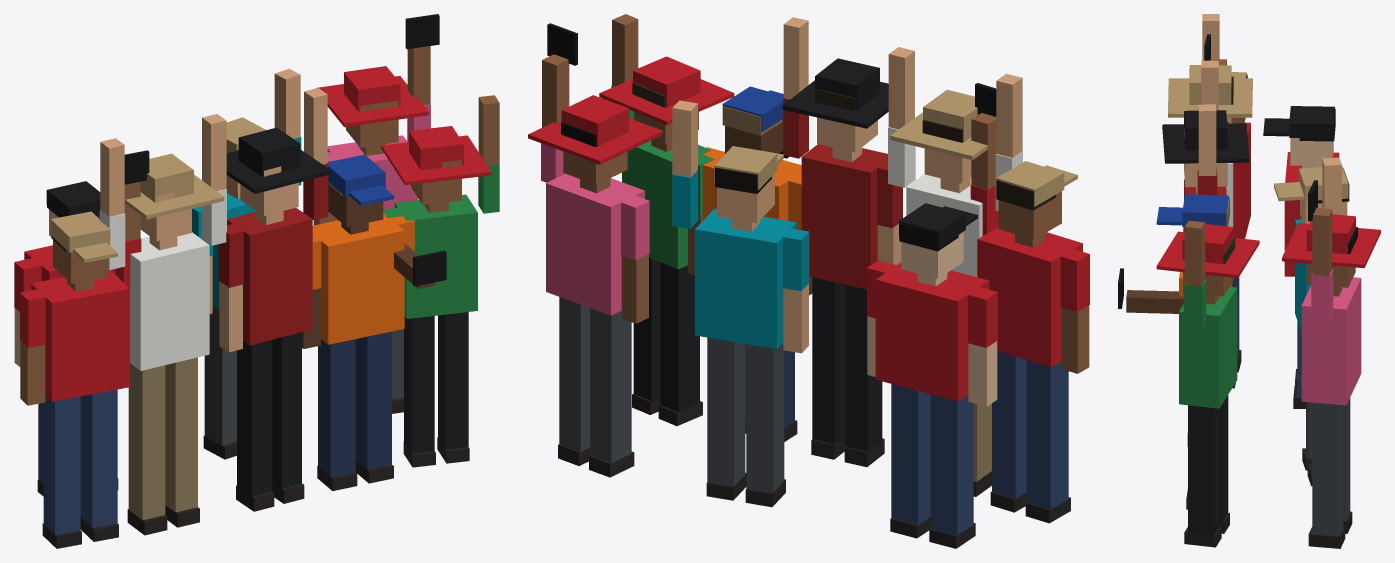
The model's file is crowd_g.dae.
3 renders of one model, left to right at view 1: azimuth 30°, elevation 25°; view 2: azimuth 150°, elevation 25°; view 3: azimuth 270°, elevation 25°, orthographic. The views are drawn at different scales.
Parts seen in each view (by area): view 1: marker; view 2: marker; view 3: marker.
Boxes of the visible parts, x1,y1,x2,y2 form: marker: (14,14,499,548); marker: (528,14,1089,548); marker: (1118,14,1380,548).
Bounding box in the file's own units: 2.61 × 1.37 × 2.14.
